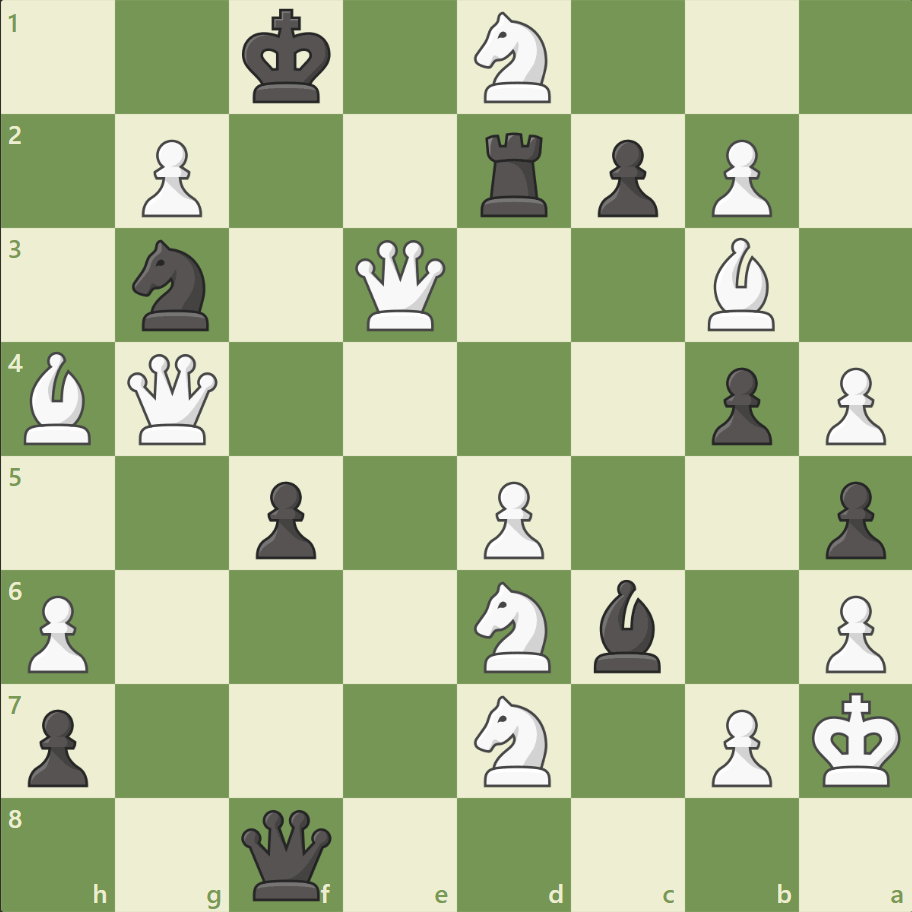B: (698, 233, 782, 336), (17, 347, 101, 449)
K: (806, 685, 906, 793)
N: (465, 688, 562, 791), (465, 7, 562, 110), (465, 575, 562, 677)
P: (701, 700, 776, 791), (20, 586, 95, 677), (474, 473, 549, 564), (701, 132, 776, 223), (133, 132, 208, 223), (815, 586, 889, 677), (815, 359, 889, 450)
Q: (124, 349, 223, 449), (351, 236, 450, 335)
b: (585, 574, 669, 676)
k: (238, 4, 338, 112)
n: (124, 234, 222, 337)
p: (20, 700, 95, 791), (247, 473, 322, 564), (701, 359, 776, 450), (815, 473, 889, 564), (588, 132, 662, 223)
q: (237, 804, 336, 903)
r: (473, 125, 556, 222)
